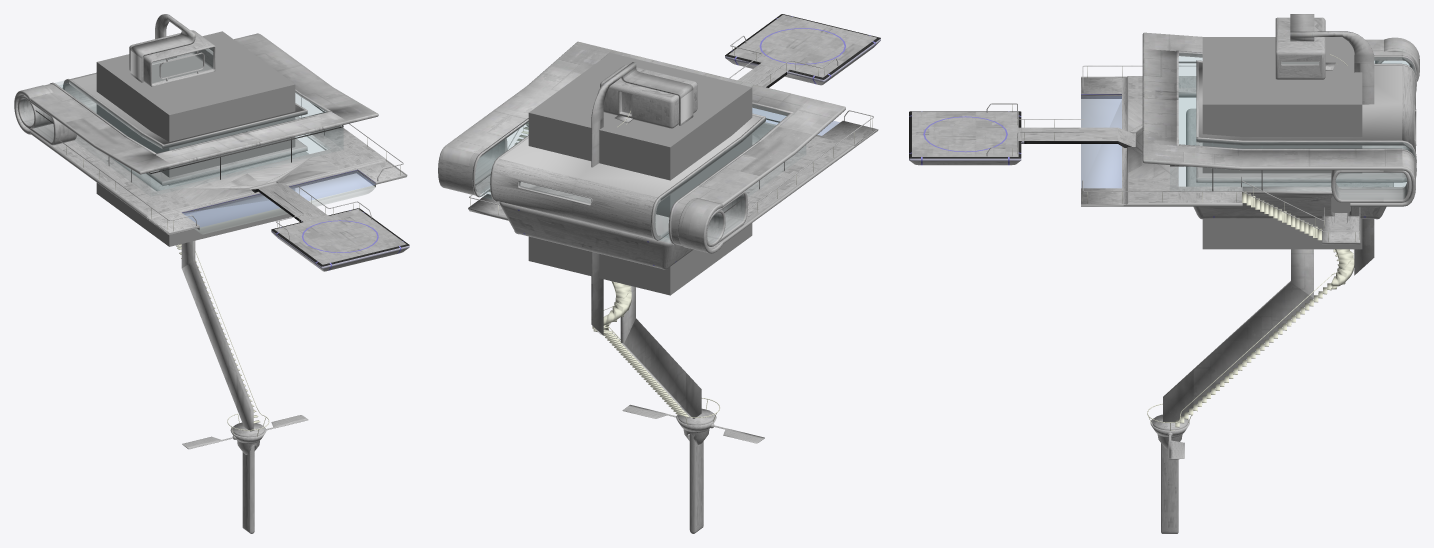
Rendered from Habitat49_update.obj.
3 renders of one model, left to right at view 1: azimuth 30°, elevation 25°; view 2: azimuth 150°, elevation 25°; view 3: azimuth 270°, elevation 25°, orthographic. The views are drawn at different scales.
Parts seen in each view (by area): view 1: group_Default, Cube, group_rooftop2, group_MainHolder, group_Goldrim, group_glassUP, group_pool, group_Water, group_rooftop, group_steps, group_Sink, group_GlassFrame (+1 smaller); view 2: group_Default, Cube, group_rooftop2, group_MainHolder, group_rooftop, group_Goldrim, group_glassUP, group_steps, group_Sink; view 3: group_Default, Cube, group_rooftop2, group_MainHolder, group_glassUP, group_Goldrim, group_rooftop, group_steps, group_Water, group_pool, group_Sink.
Boxes of the visible parts, left/top/right/bottom form: group_Default: left=16, top=30, right=408, bottom=533; Cube: left=96, top=31, right=295, bottom=246; group_rooftop2: left=21, top=33, right=376, bottom=171; group_MainHolder: left=56, top=14, right=403, bottom=431; group_Goldrim: left=14, top=34, right=407, bottom=234; group_glassUP: left=56, top=49, right=342, bottom=191; group_pool: left=186, top=173, right=375, bottom=234; group_Water: left=183, top=171, right=375, bottom=227; group_rooftop: left=72, top=74, right=303, bottom=144; group_steps: left=66, top=138, right=400, bottom=436; group_Sink: left=251, top=189, right=409, bottom=266; group_GlassFrame: left=35, top=98, right=343, bottom=182; group_Default: left=439, top=14, right=878, bottom=533; Cube: left=528, top=53, right=752, bottom=295; group_rooftop2: left=440, top=42, right=843, bottom=237; group_MainHolder: left=469, top=35, right=873, bottom=418; group_rooftop: left=500, top=115, right=761, bottom=197; group_Goldrim: left=438, top=41, right=878, bottom=253; group_glassUP: left=475, top=108, right=805, bottom=242; group_steps: left=470, top=44, right=872, bottom=424; group_Sink: left=725, top=14, right=880, bottom=87; group_Default: left=910, top=17, right=1419, bottom=533; Cube: left=1202, top=37, right=1362, bottom=249; group_rooftop2: left=1144, top=32, right=1419, bottom=174; group_MainHolder: left=986, top=14, right=1374, bottom=422; group_glassUP: left=1178, top=56, right=1409, bottom=188; group_Goldrim: left=1081, top=32, right=1415, bottom=206; group_rooftop: left=1198, top=62, right=1402, bottom=140; group_steps: left=1012, top=54, right=1359, bottom=430; group_Water: left=1081, top=96, right=1121, bottom=187; group_pool: left=1081, top=99, right=1121, bottom=187; group_Sink: left=909, top=111, right=1131, bottom=158.
Bounding box in the file's own units: 3.8 × 6.93 × 6.4.
